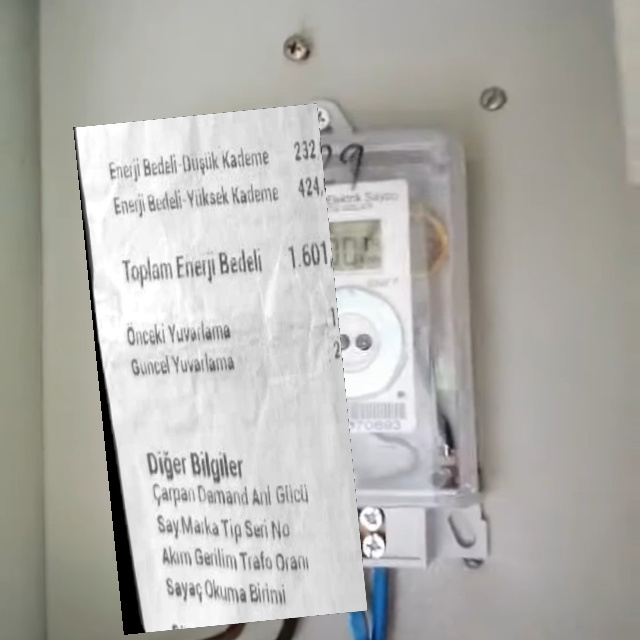electricity-bill: (72, 102, 368, 634)
